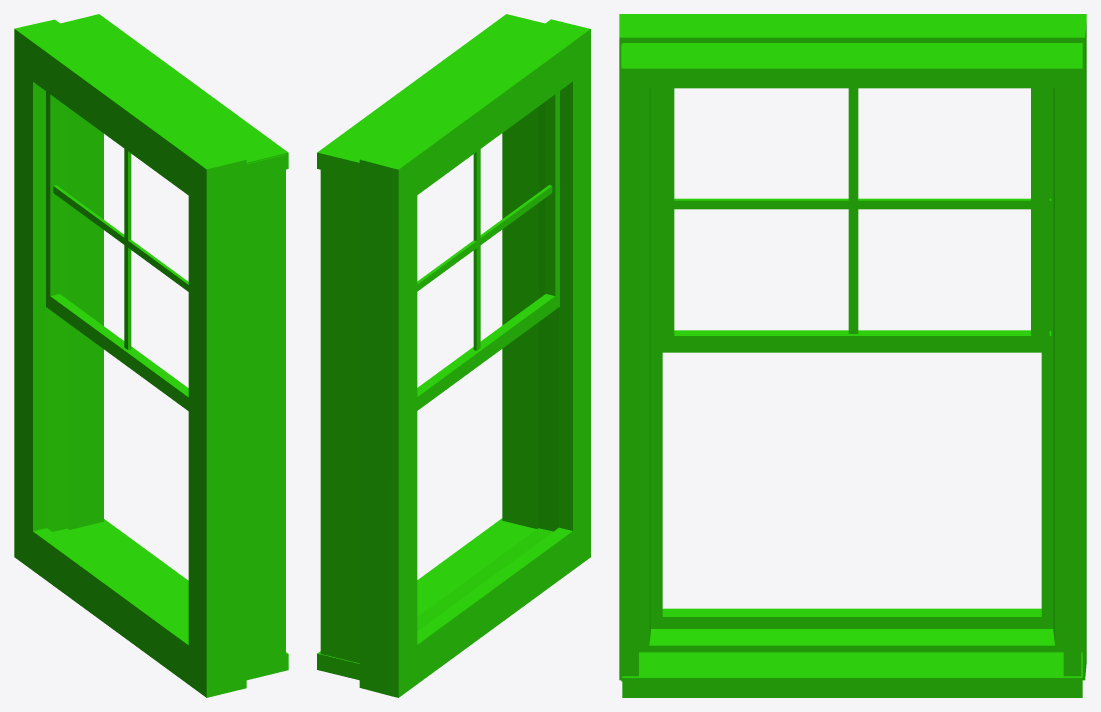
Rendered from Window_C_01_Lod0.fbx.
3 views of the same model, side by side, from view 1: azimuth 30°, elevation 25°; view 2: azimuth 150°, elevation 25°; view 3: azimuth 270°, elevation 25° (orthographic). The views are drawn at different scales.
Visible parts, largest first — view 1: Window_C_01_Lod0; view 2: Window_C_01_Lod0; view 3: Window_C_01_Lod0.
Part boxes in pixels (box(x1,y1,x2,y2)): Window_C_01_Lod0: box(14, 14, 288, 697); Window_C_01_Lod0: box(317, 14, 590, 697); Window_C_01_Lod0: box(619, 14, 1086, 697).
Size of the model in its own units: 22.84 by 139 by 91.49.
